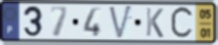3: (22, 4, 46, 39)
4: (82, 6, 103, 39)
7: (49, 5, 70, 39)
C: (169, 5, 196, 41)
K: (144, 6, 165, 39)
V: (108, 4, 134, 41)
